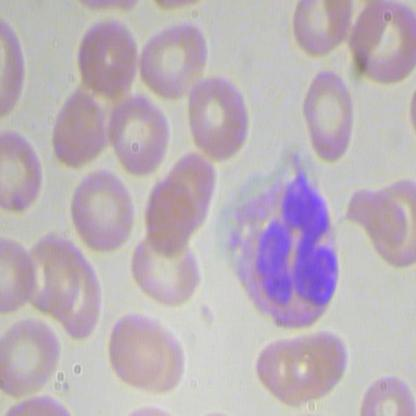RBC: (249, 326, 353, 409), (131, 10, 214, 100), (301, 63, 363, 163), (190, 65, 252, 165), (69, 164, 136, 254), (103, 302, 170, 392), (133, 169, 200, 259), (75, 16, 140, 94), (46, 88, 111, 166), (105, 94, 170, 172)
WBC: (217, 146, 341, 333)
